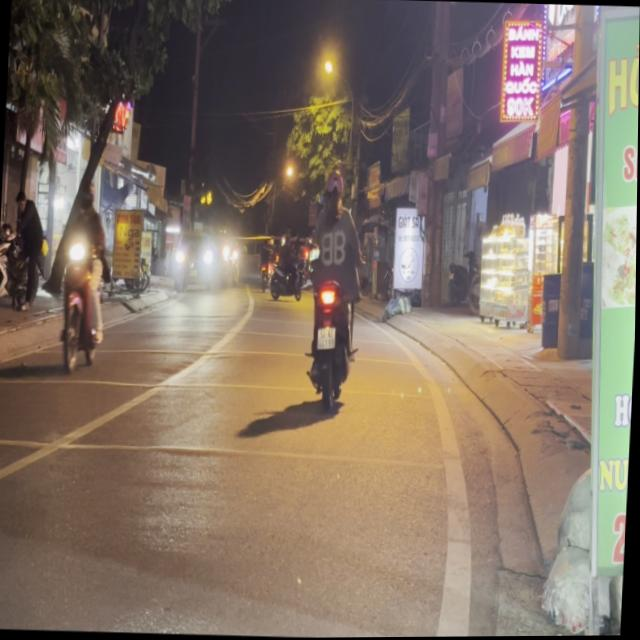helmet: (324, 170, 345, 210)
licenseplate: (300, 165, 370, 413), (49, 172, 114, 377)
nohelmet: (318, 327, 337, 351)
